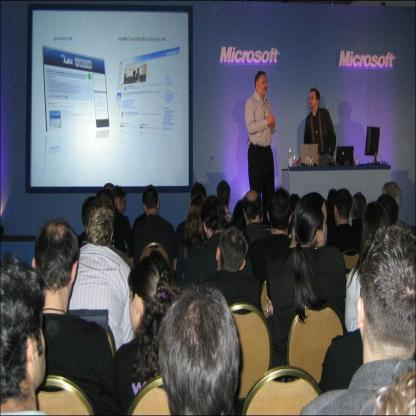board: (68, 308, 108, 340), (289, 141, 317, 166), (335, 146, 354, 166)
